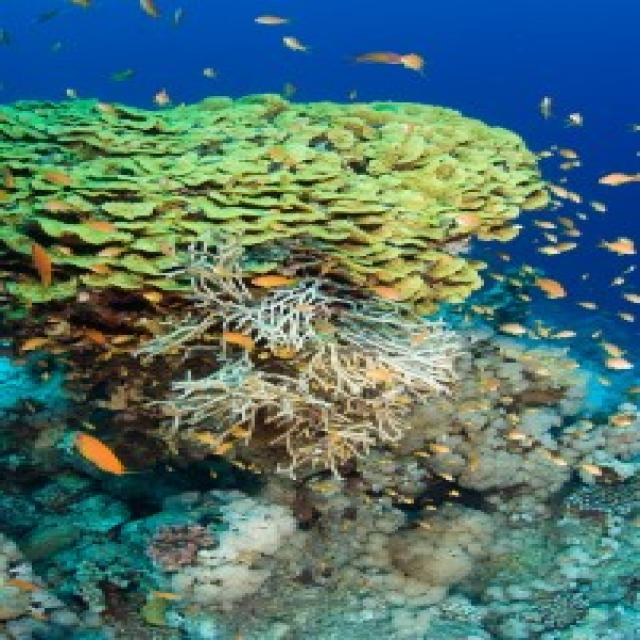Healthy: (1, 95, 545, 304), (81, 225, 463, 490), (230, 408, 568, 639), (14, 492, 303, 639)
